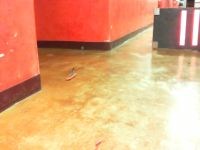switch: (192, 9, 200, 46), (179, 10, 186, 45)
